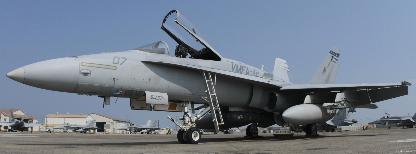F15: (5, 8, 411, 142), (284, 107, 362, 130), (1, 108, 42, 131), (367, 110, 415, 127), (52, 117, 102, 131), (116, 118, 165, 132), (151, 129, 163, 132)
